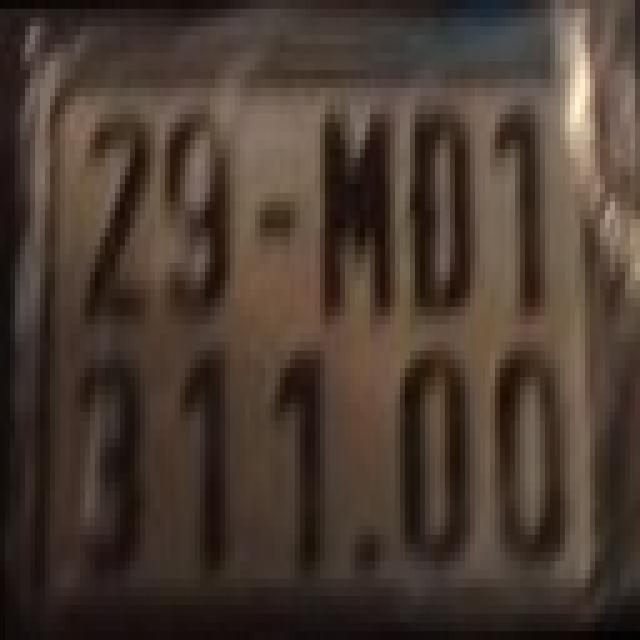0: (490, 342, 565, 570), (395, 342, 470, 570)
1: (490, 97, 555, 316), (175, 342, 235, 579), (270, 342, 330, 579)
2: (80, 96, 155, 324)
3: (65, 342, 145, 579)
9: (160, 96, 230, 324)
D: (405, 97, 475, 316)
M: (310, 96, 400, 334)
